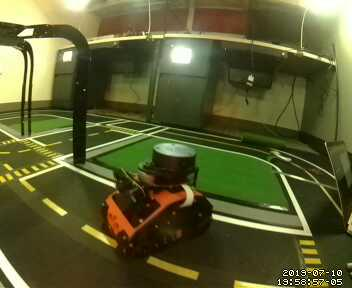pheeno: (103, 142, 215, 263)
